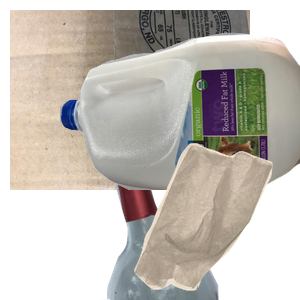cardboard: (10, 10, 250, 190)
glass: (83, 120, 294, 300)
plastic: (60, 30, 300, 210)
trash: (132, 140, 300, 300)
